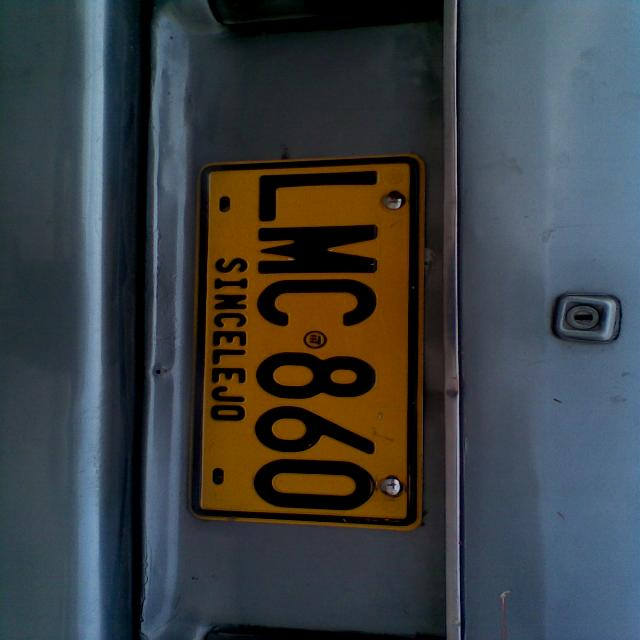placa: (179, 143, 439, 539)
